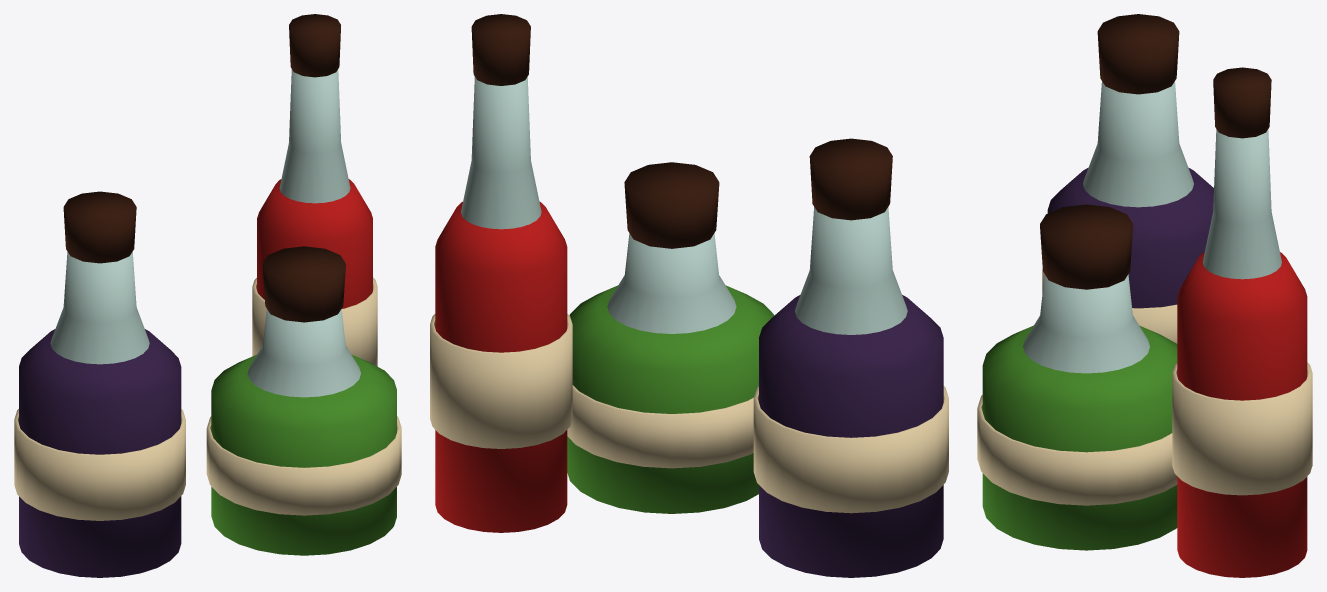
The model's file is potion_bottles.obj.
The picture shows the model from 3 angles, left to right: view 1: azimuth 30°, elevation 25°; view 2: azimuth 150°, elevation 25°; view 3: azimuth 270°, elevation 25°; orthographic projection. The views are drawn at different scales.
Visible parts, largest first — view 1: LH_potion_bottles; view 2: LH_potion_bottles; view 3: LH_potion_bottles.
Boxes of the visible parts, <box> form: LH_potion_bottles: <box>14,14,401,577</box>; LH_potion_bottles: <box>430,14,948,577</box>; LH_potion_bottles: <box>977,14,1312,577</box>.
Size of the model in its own units: 0.194 by 0.2 by 0.129.
